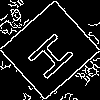H: (25, 25, 83, 82)
